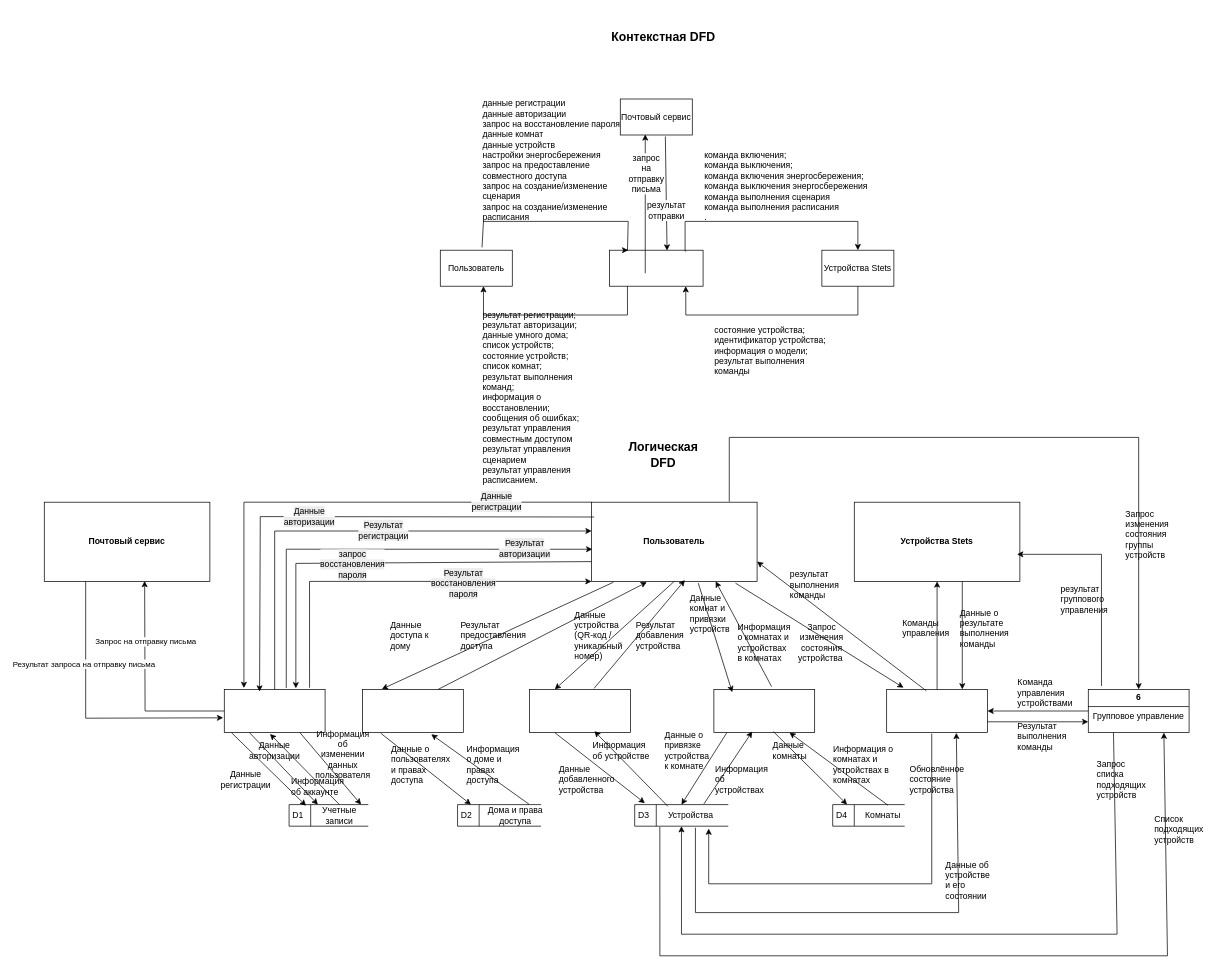
Image size: 1215x974. Some labels were removed from this diagram. Here are the shapes that lost their labels. From the top down, the centre of each, then its label:
At (x=656, y=267): "0 Stets Home".
At (x=274, y=711): "1 Управление учетной записью".
At (x=412, y=711): "2 Управлять доступом к дому".
At (x=579, y=711): "3 Подключить устройства".
At (x=764, y=711): "4 Управлять комнатами".
At (x=936, y=711): "5 Управлять устройствами".
